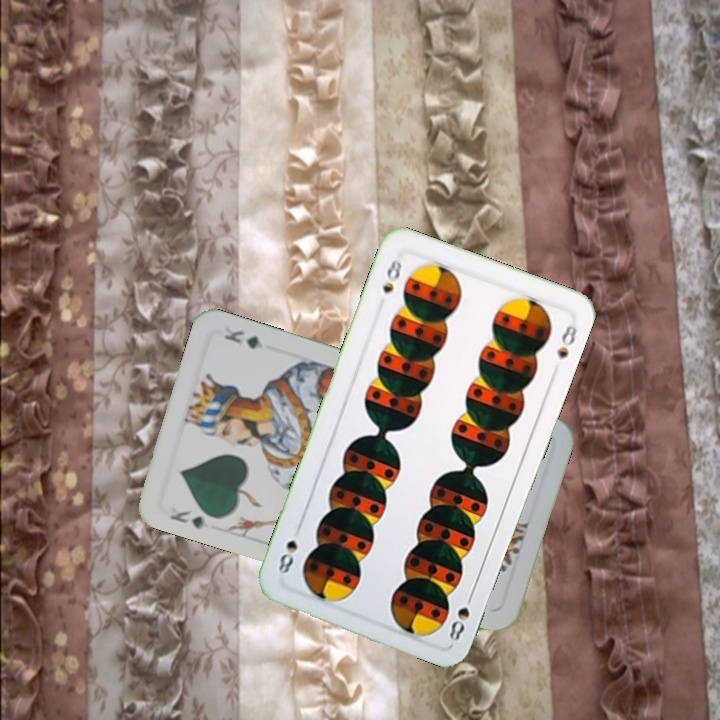GK: (165, 505, 207, 531)
S8: (445, 587, 477, 643), (378, 254, 405, 296)
